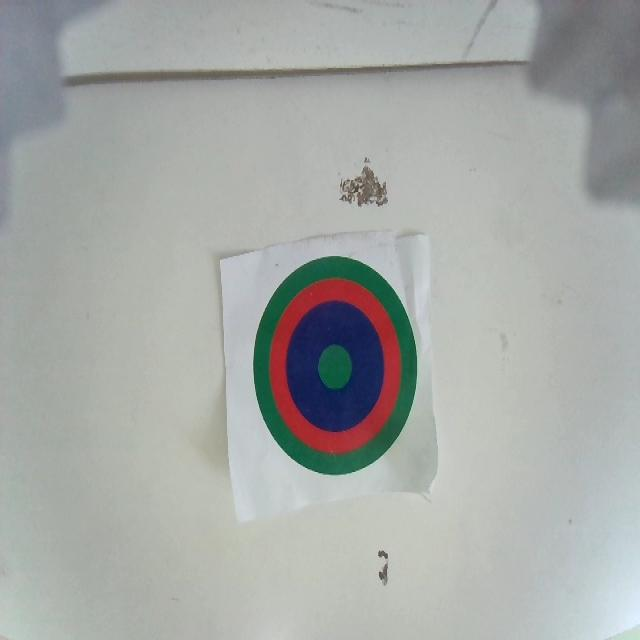cogn: (253, 255, 416, 473)
